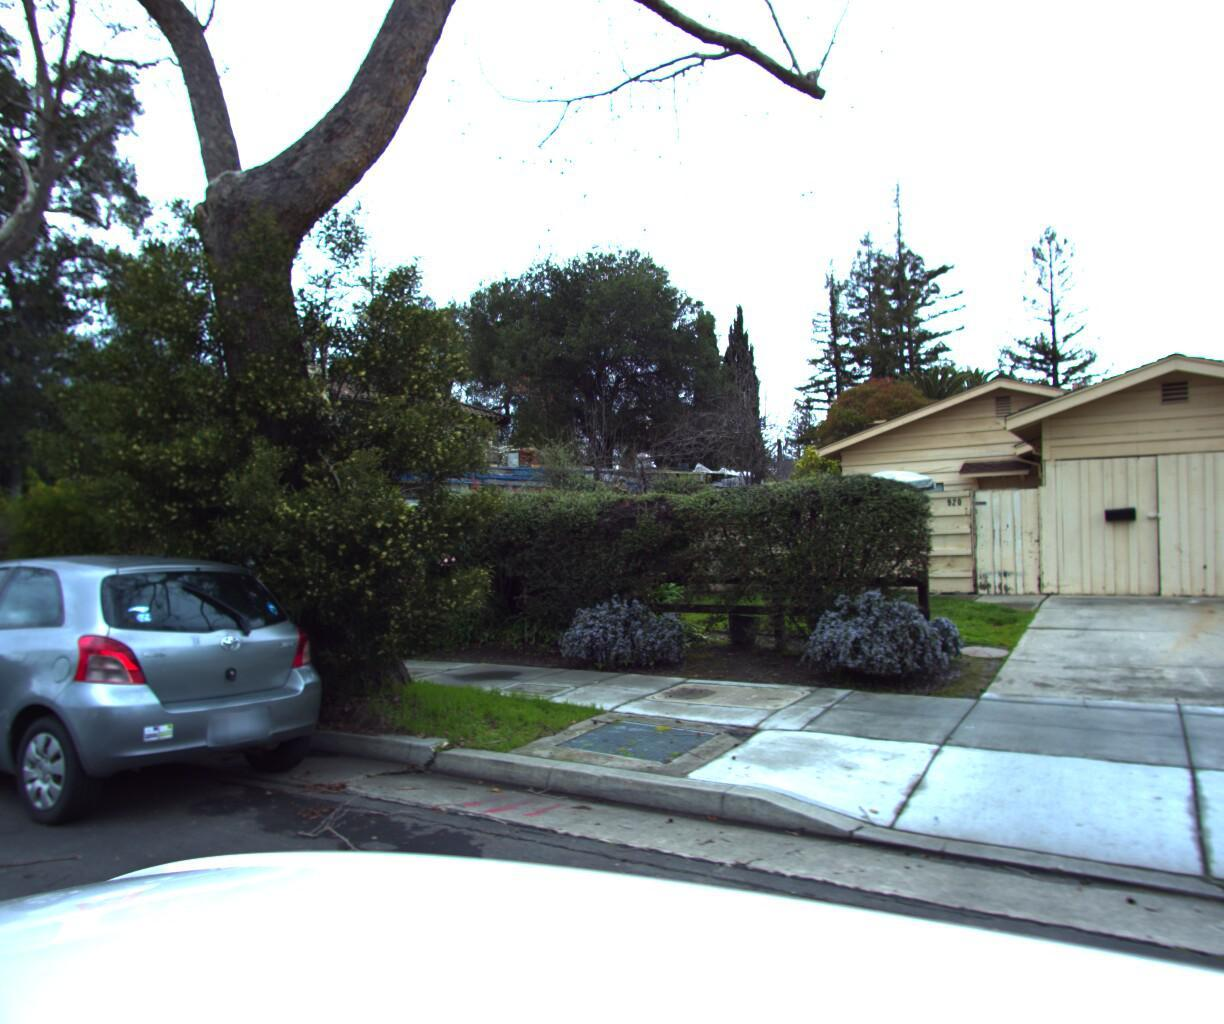car: (0, 546, 347, 863)
